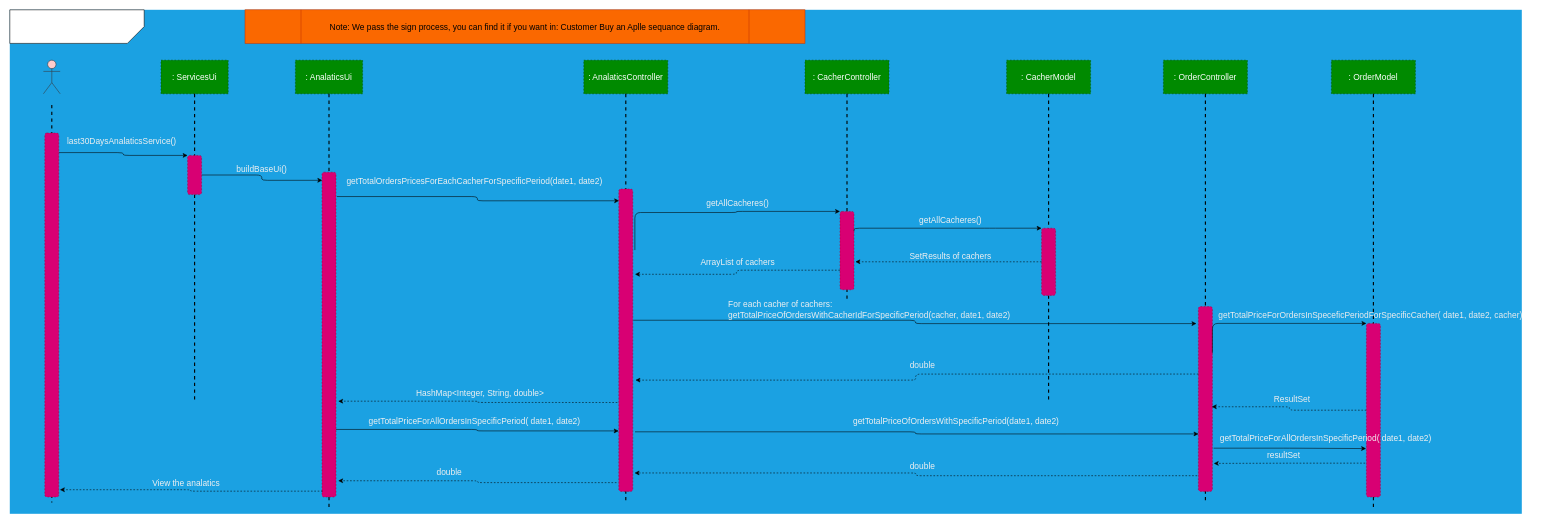
The diagram is 1543 pixels wide and 524 high, and some of its shapes have lost their labels. The shapes that lost their labels are listed below. From the top down, each one's centre as x and y in pixels, then its label:
the point at 76,26: The analatics of last month
the point at 51,77: Cacher
